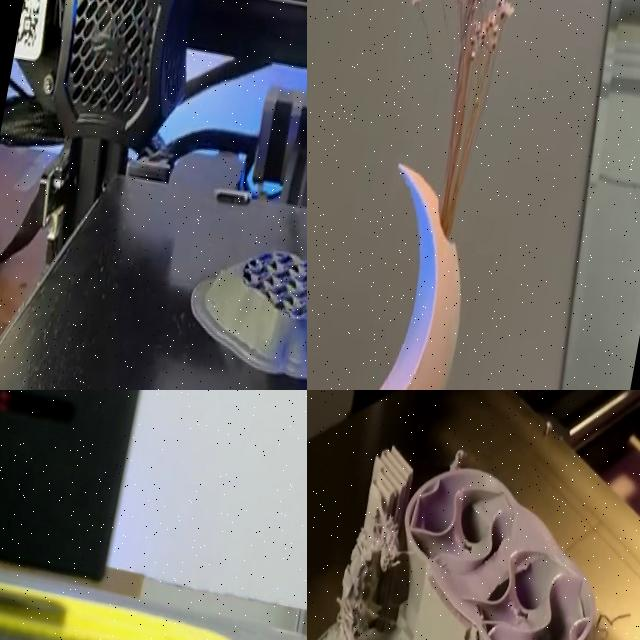spaghetti: (366, 512, 413, 576), (581, 600, 628, 640), (444, 438, 474, 486)
